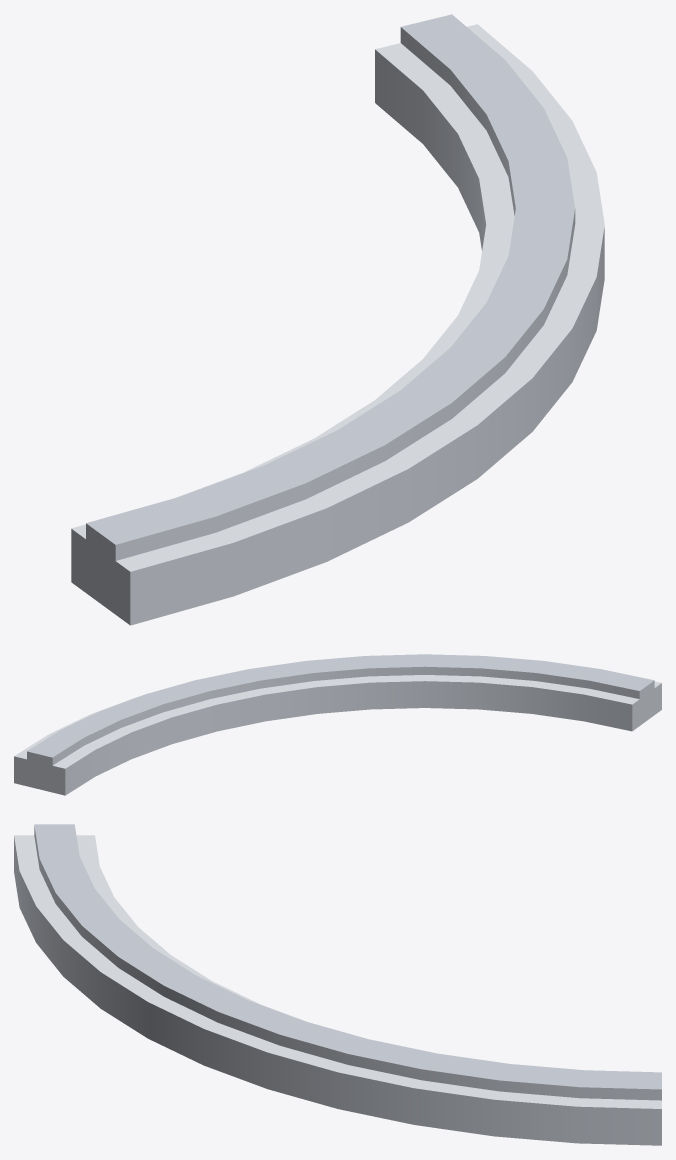
File: monorail_trackCornerLarge.glb
The picture shows the model from 3 angles, top to bottom: view 1: azimuth 30°, elevation 25°; view 2: azimuth 150°, elevation 25°; view 3: azimuth 270°, elevation 25°; orthographic projection. The views are drawn at different scales.
Visible parts, largest first — view 1: monorail_trackCornerLarge; view 2: monorail_trackCornerLarge; view 3: monorail_trackCornerLarge.
Part boxes in pixels (box(x1,y1,x2,y2)): monorail_trackCornerLarge: box(71, 14, 604, 625); monorail_trackCornerLarge: box(14, 654, 661, 795); monorail_trackCornerLarge: box(14, 824, 661, 1145).
Bounding box in the file's own units: 1.6 × 0.13 × 1.6.
Materials: 1 (1 with a texture image).
